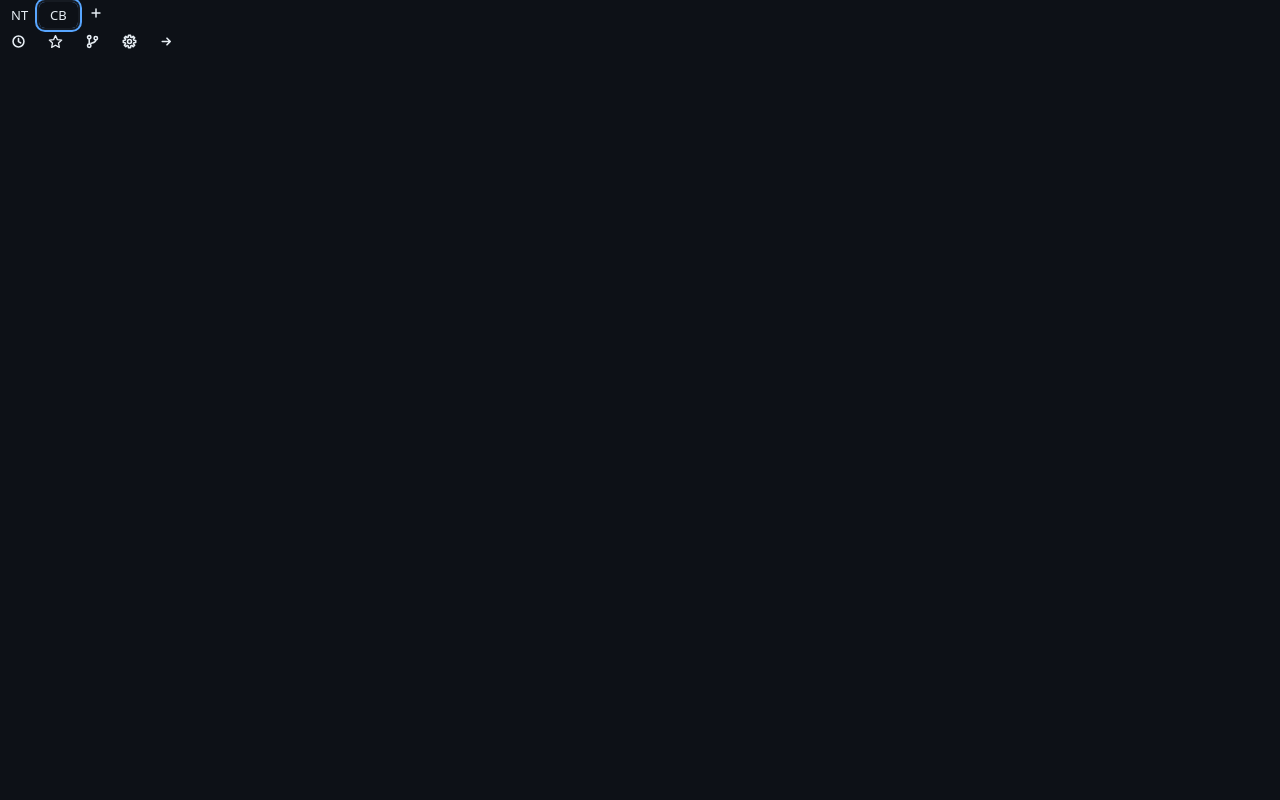
Test case: Kokpit rayı: karonun yanında ad ve renk › menüden adlandırma: kutu grubun adıyla ve ODAKLI açılıyor, Enter kaydediyor
The width and height of the screenshot is (1280, 800).
Right-click the button with class "grail-item" showing "CB": (58, 15) [39, 2, 78, 28]
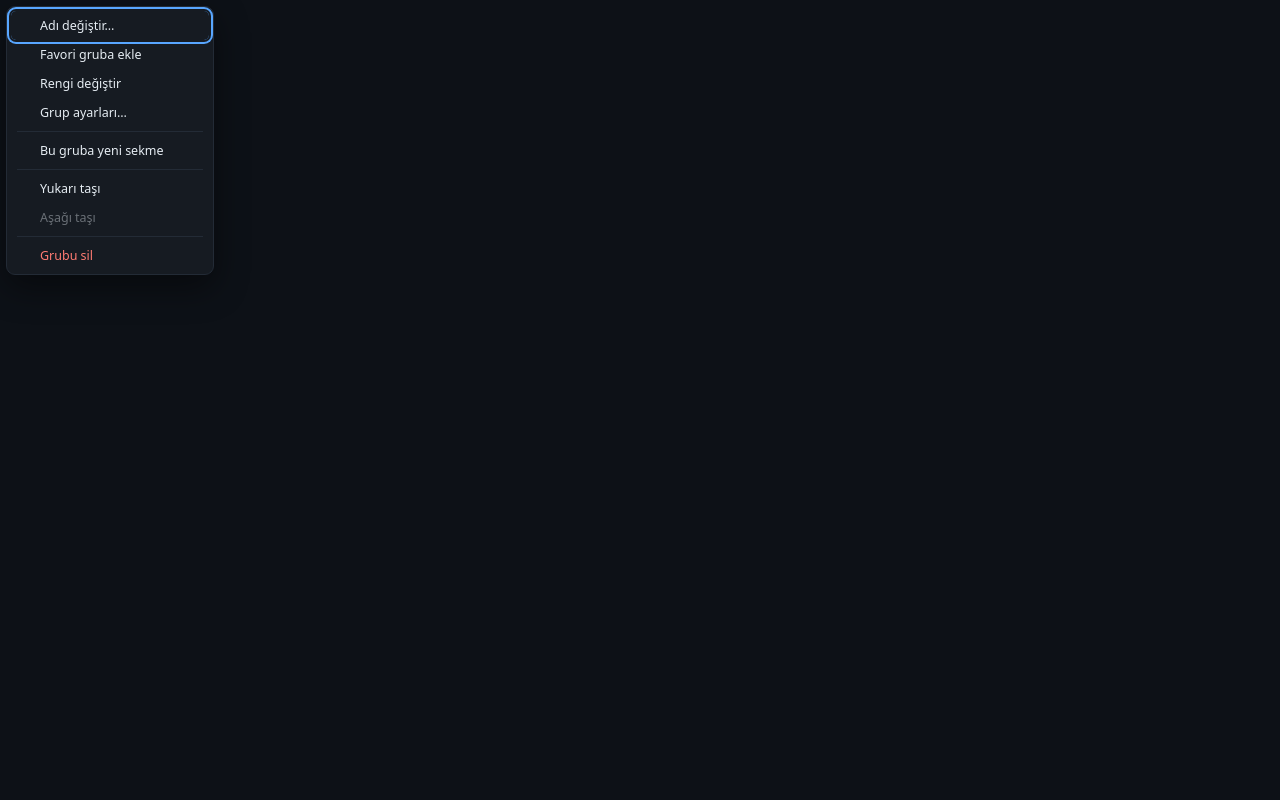
Click the menu item with class "ctx-item" showing "Adı değiştir…": click(110, 26) [11, 11, 209, 40]
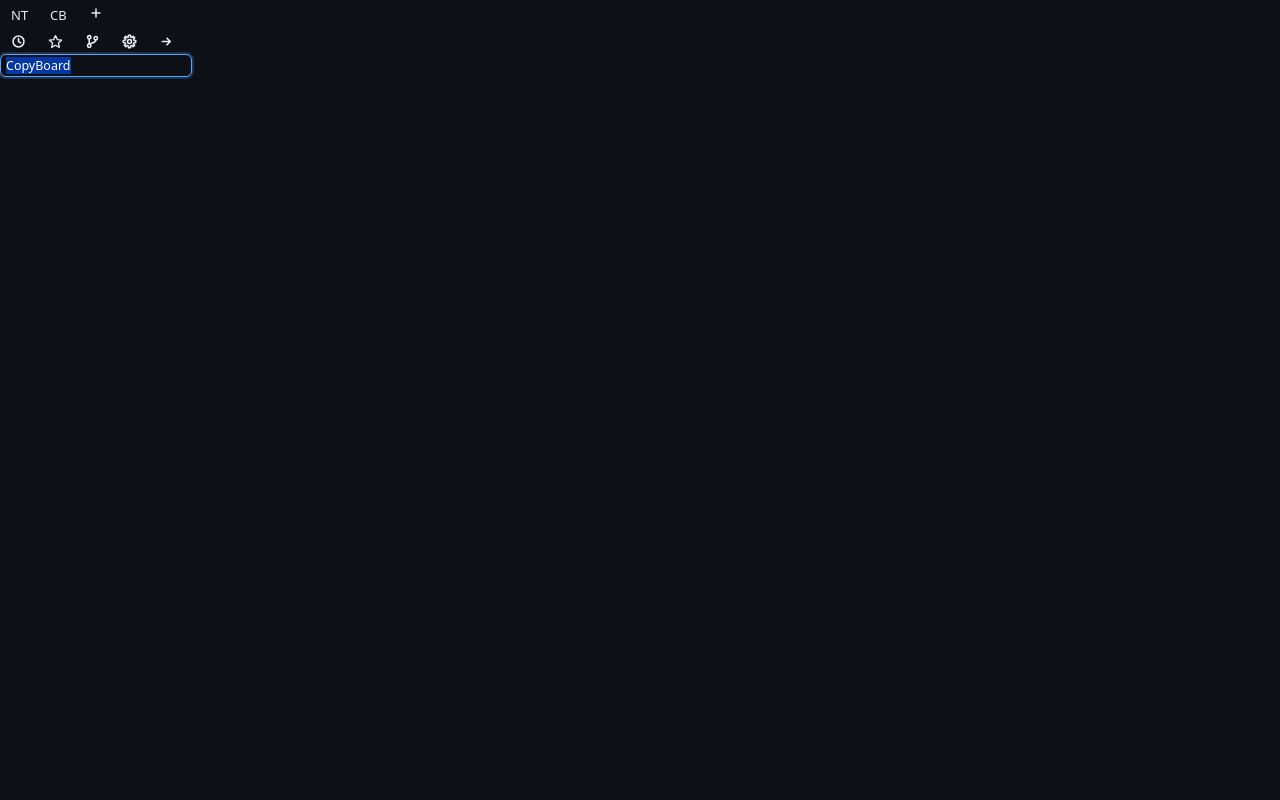
Expected: the field with class "rename-input" holds "CopyBoard"
Replace the text in the field with class "rename-input" with "  Pano  ": (96, 66) [0, 54, 192, 77]
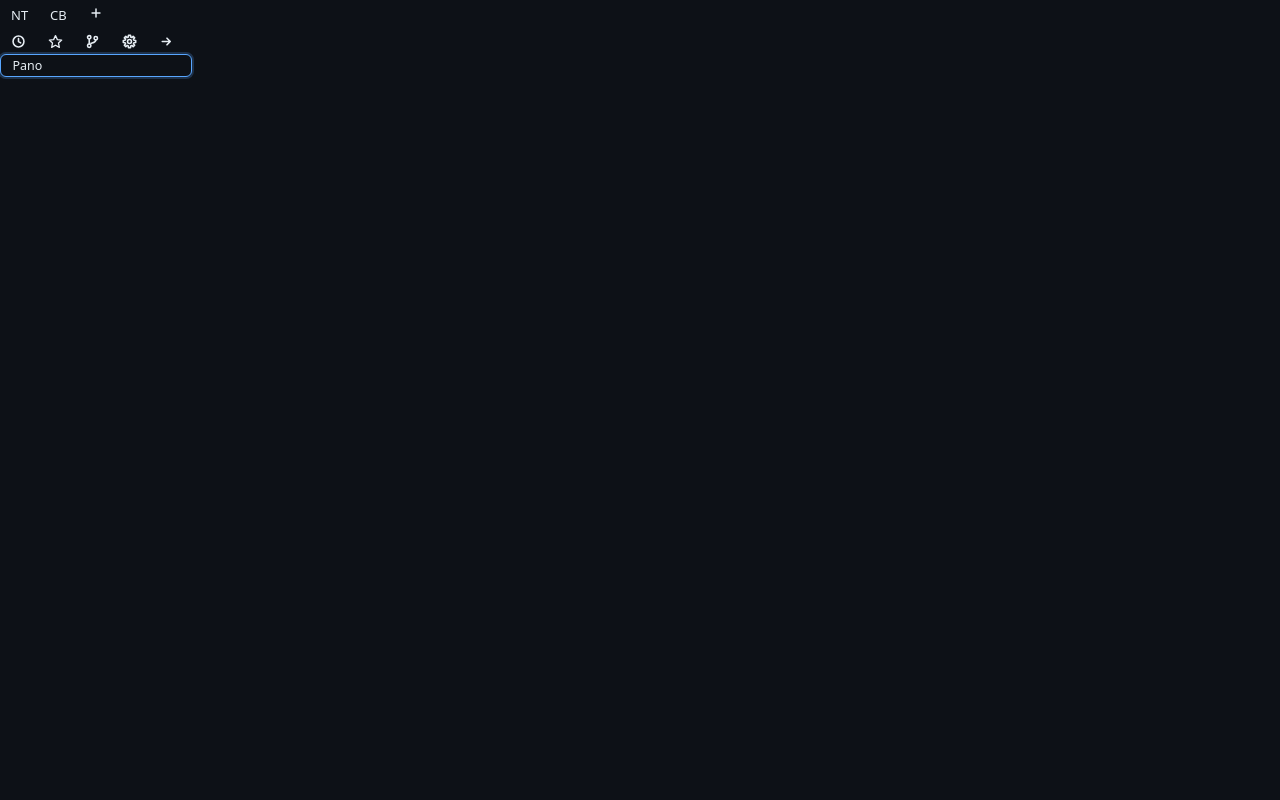
Press Enter in the field with class "rename-input", box [0, 54, 192, 77]
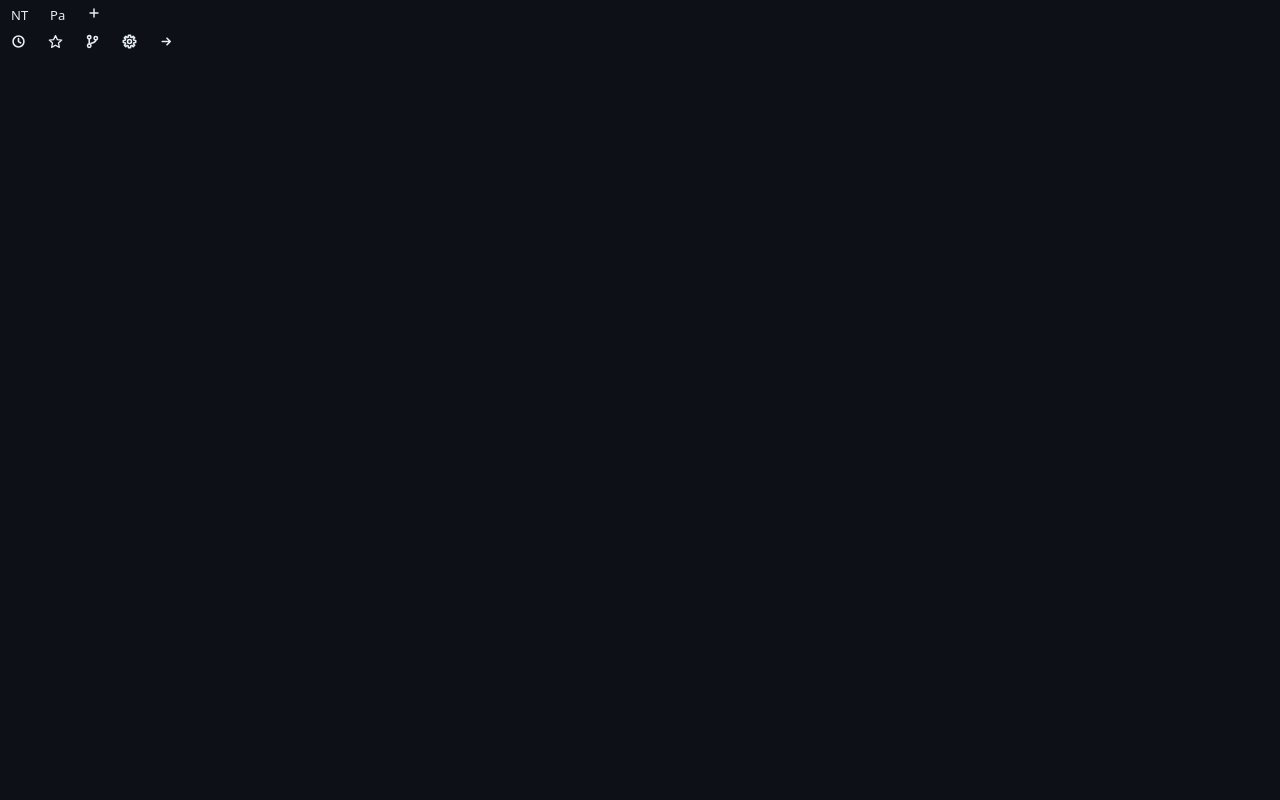
Expected: the dialog with class "grail-pop" is gone
